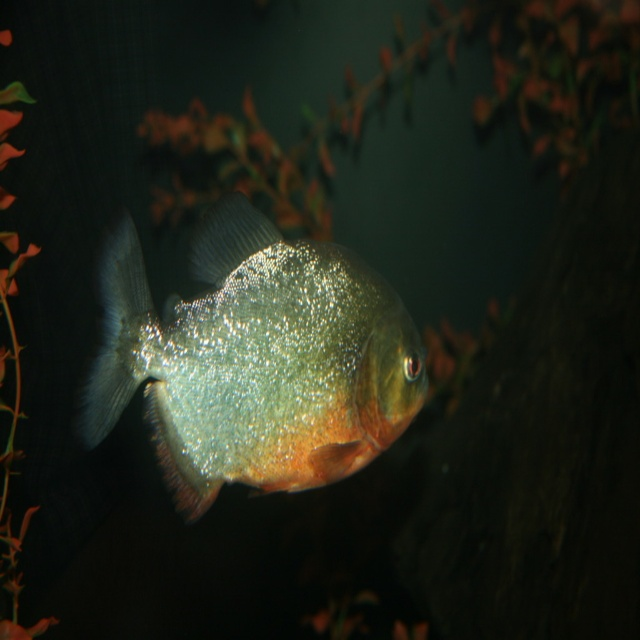Fish: (63, 198, 440, 514)
